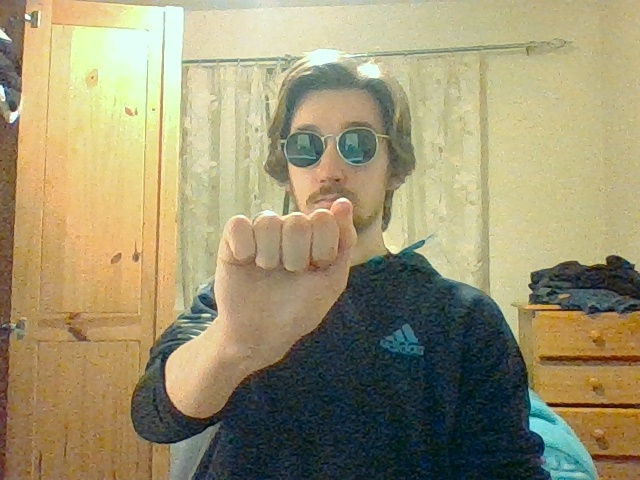your: (216, 197, 356, 332)
